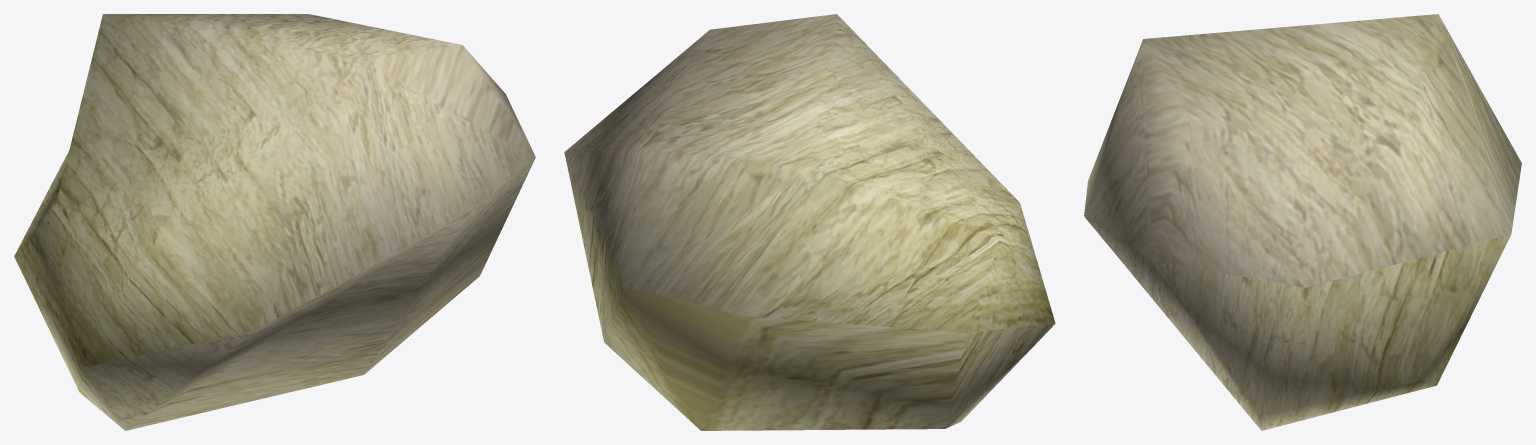
The model's file is coastb.FBX.
The picture shows the model from 3 angles, left to right: view 1: azimuth 30°, elevation 25°; view 2: azimuth 150°, elevation 25°; view 3: azimuth 270°, elevation 25°; orthographic projection. The views are drawn at different scales.
Parts seen in each view (by area): view 1: C5SNBOULDER3; view 2: C5SNBOULDER3; view 3: C5SNBOULDER3.
Part boxes in pixels (x1,y1,x2,y2): C5SNBOULDER3: (14,14,535,430); C5SNBOULDER3: (564,14,1055,430); C5SNBOULDER3: (1084,14,1521,430).
Bounding box in the file's own units: 7.18 × 5.27 × 5.72.
Materials: 1 (1 with a texture image).
